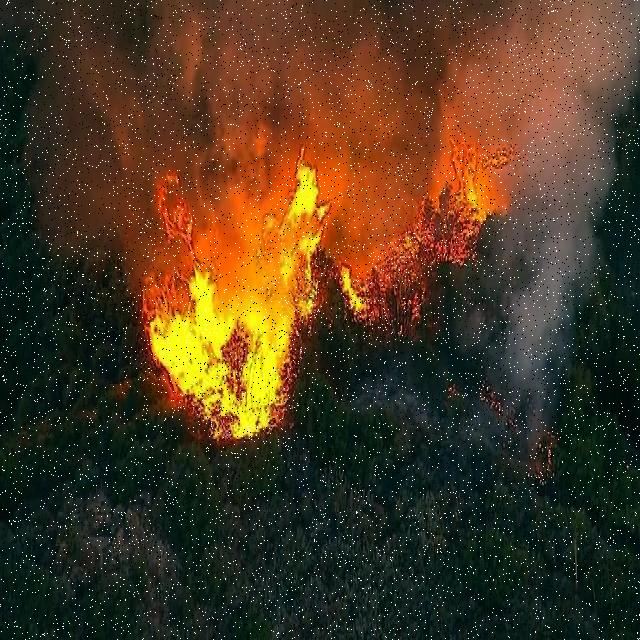fire: (157, 294, 227, 390), (281, 143, 320, 239)
smoke: (516, 76, 591, 407)
